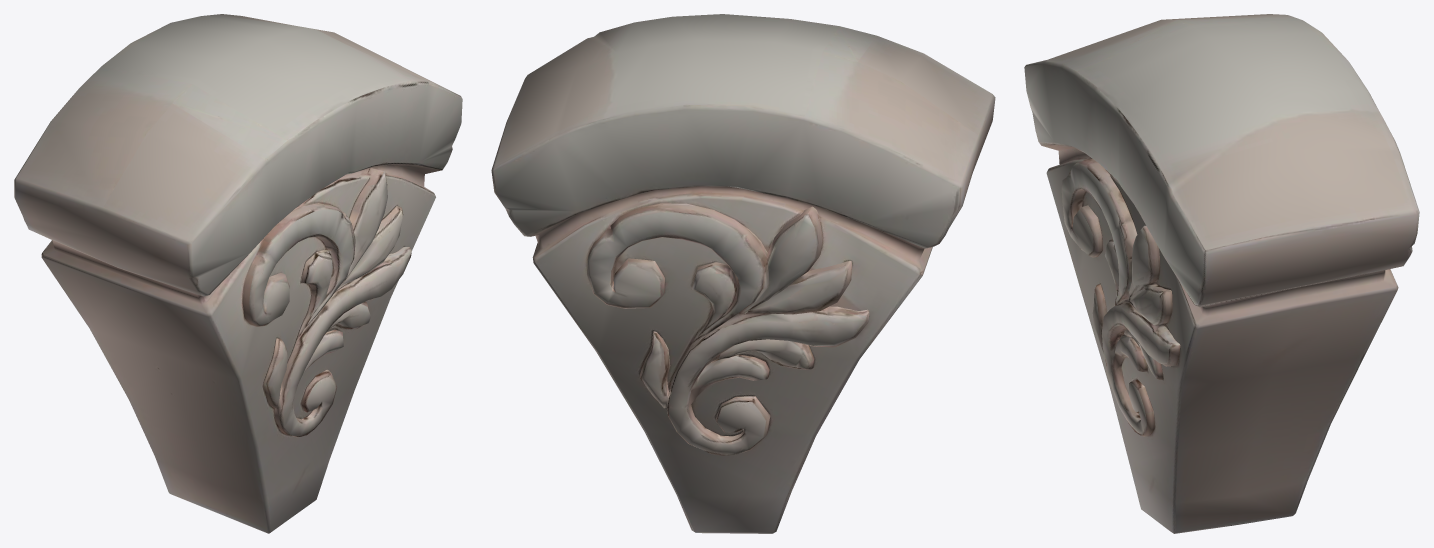
File: wall_keystone_a_v1.glb
3 views of the same model, side by side, from view 1: azimuth 30°, elevation 25°; view 2: azimuth 150°, elevation 25°; view 3: azimuth 270°, elevation 25° (orthographic). The views are drawn at different scales.
Parts seen in each view (by area): view 1: tripo_node_42eb8291-9824-4e4a-968a-828f98ac5dec; view 2: tripo_node_42eb8291-9824-4e4a-968a-828f98ac5dec; view 3: tripo_node_42eb8291-9824-4e4a-968a-828f98ac5dec.
Part boxes in pixels (x1,y1,x2,y2): tripo_node_42eb8291-9824-4e4a-968a-828f98ac5dec: [14, 14, 462, 533]; tripo_node_42eb8291-9824-4e4a-968a-828f98ac5dec: [491, 14, 995, 533]; tripo_node_42eb8291-9824-4e4a-968a-828f98ac5dec: [1024, 14, 1419, 533].
Size of the model in its own units: 0.998 by 0.998 by 0.7676.
Materials: 1 (1 with a texture image).
